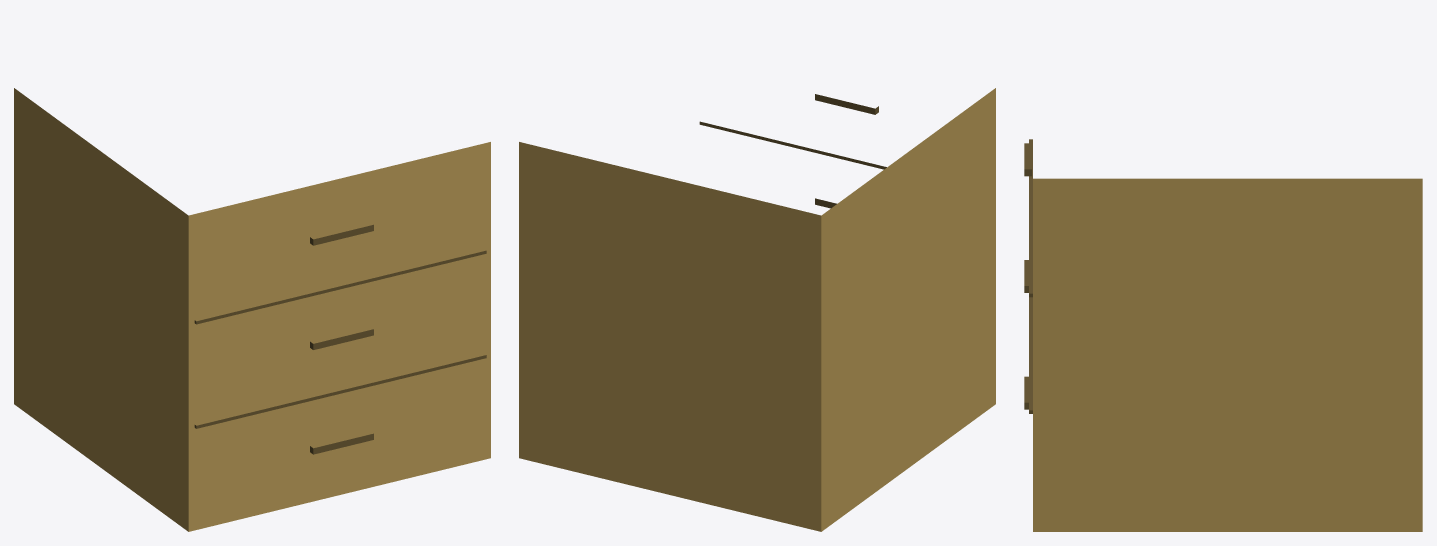
Rendered from Storage-gold.glb.
3 views of the same model, side by side, from view 1: azimuth 30°, elevation 25°; view 2: azimuth 150°, elevation 25°; view 3: azimuth 270°, elevation 25° (orthographic). The views are drawn at different scales.
Visible parts, largest first — view 1: Storage; view 2: Storage; view 3: Storage.
Boxes of the visible parts, box(x1,y1,x2,y2) form: Storage: box(14, 88, 490, 531); Storage: box(519, 88, 995, 531); Storage: box(1024, 139, 1422, 531).
Bounding box in the file's own units: 1 × 1 × 1.02.
